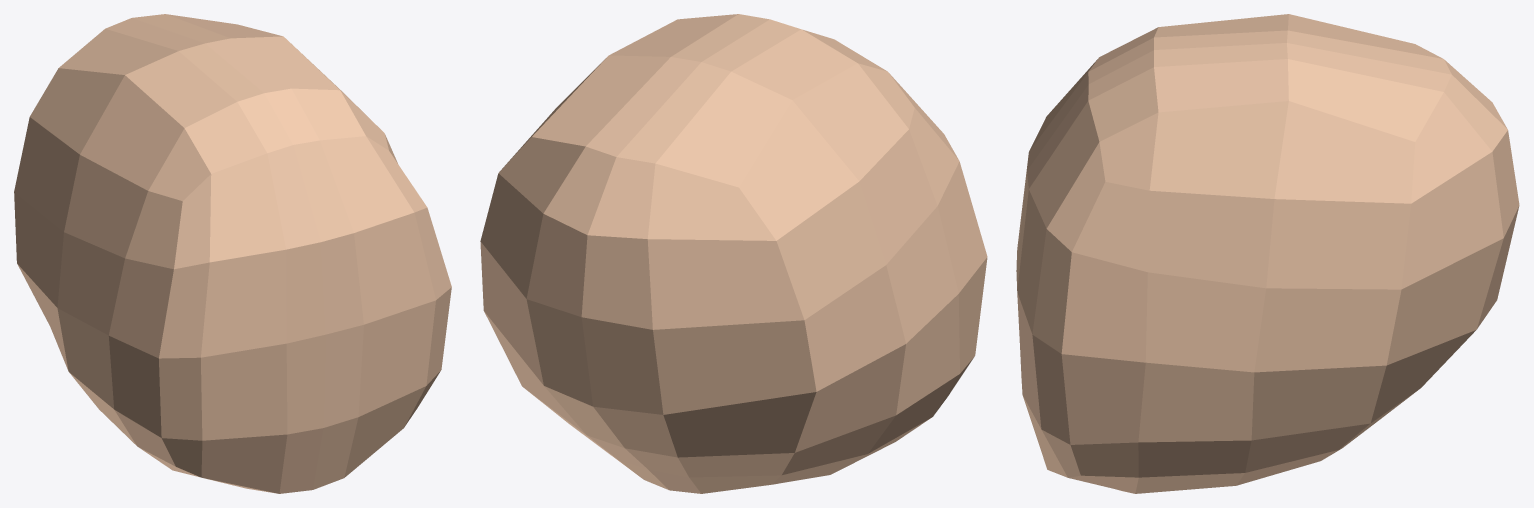
The model's file is Cabeza_Huevo.fbx.
3 views of the same model, side by side, from view 1: azimuth 30°, elevation 25°; view 2: azimuth 150°, elevation 25°; view 3: azimuth 270°, elevation 25° (orthographic). The views are drawn at different scales.
Parts seen in each view (by area): view 1: Cabeza_Huevo1; view 2: Cabeza_Huevo1; view 3: Cabeza_Huevo1.
Part boxes in pixels (<box>): Cabeza_Huevo1: <box>14,14,451,493</box>; Cabeza_Huevo1: <box>480,14,987,493</box>; Cabeza_Huevo1: <box>1016,14,1519,493</box>.
Bounding box in the file's own units: 2.51 × 2.85 × 3.
